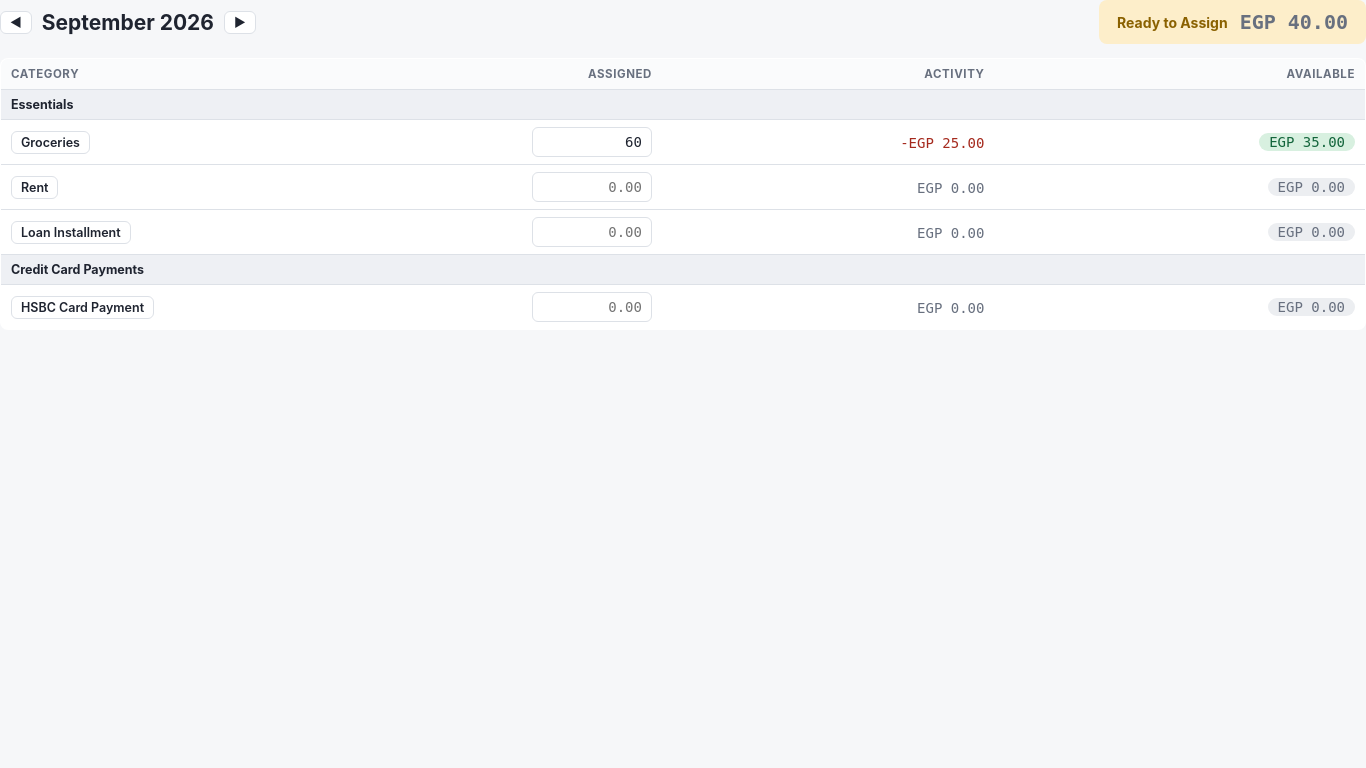
Scenario: BudgetView › sets a monthly target through the target modal and shows goal progress
This screenshot has width=1366, height=768.
Click the button with aria-label "edit target for groceries".
click(50, 142)  # box [11,130,90,154]
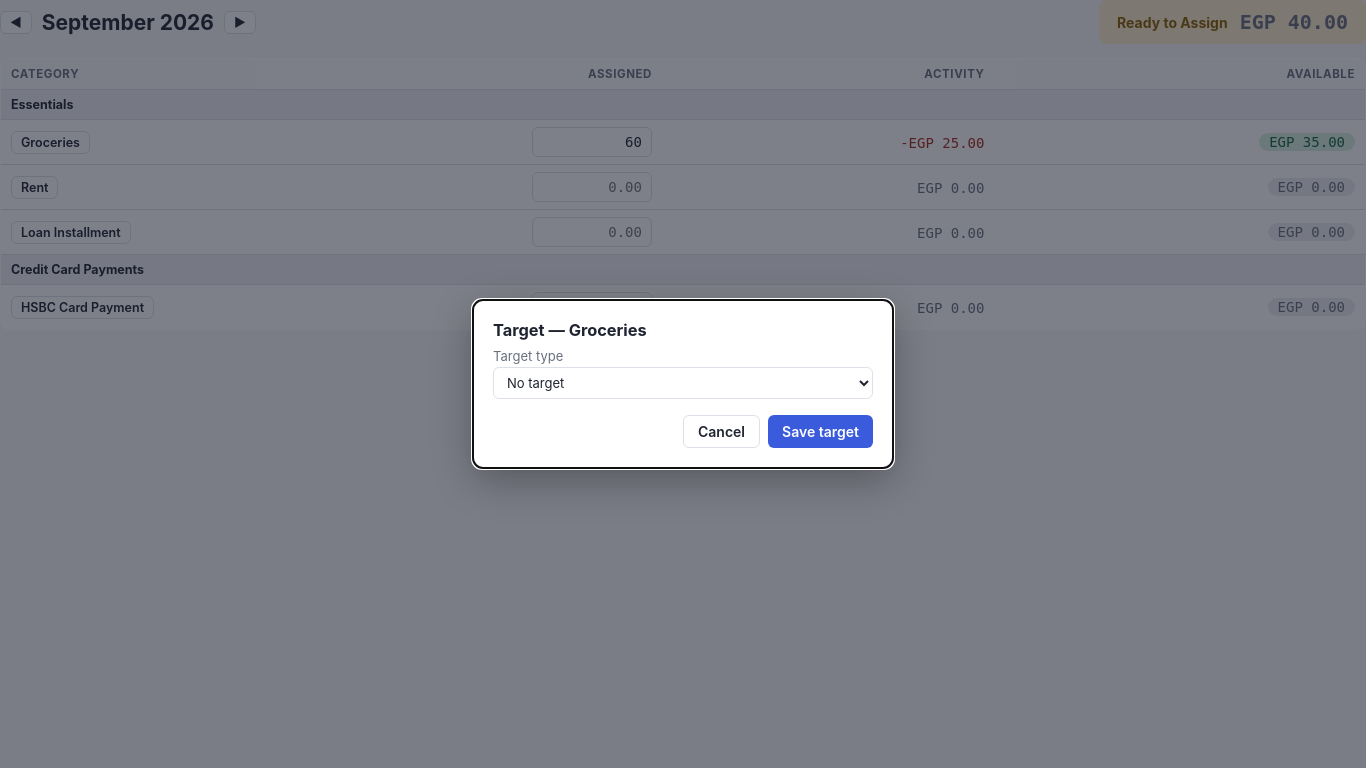
Select "Monthly funding" in the dropdown labelled "Target type" at (683, 383), box [493,367,873,399]
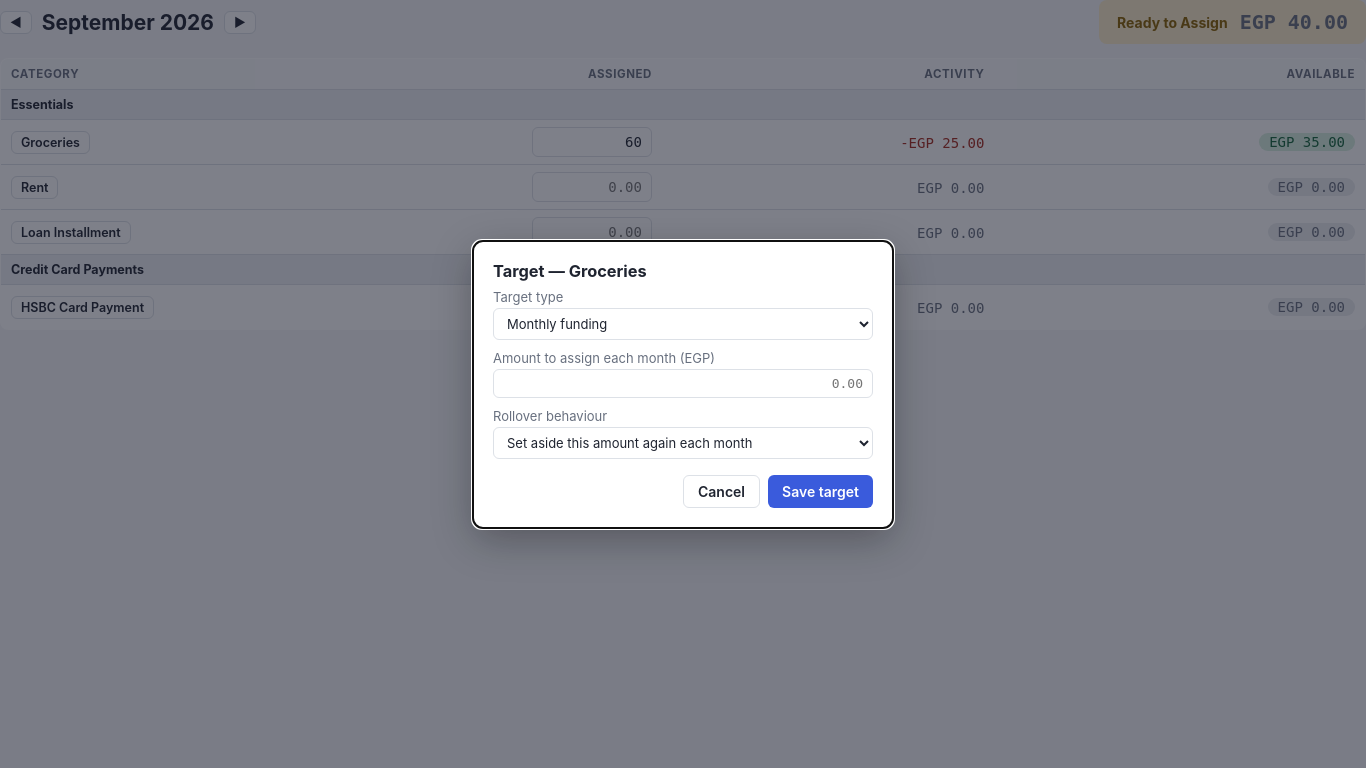
Type "100" into the field named "target amount".
click(683, 383); type("100")  # box [493,368,873,398]
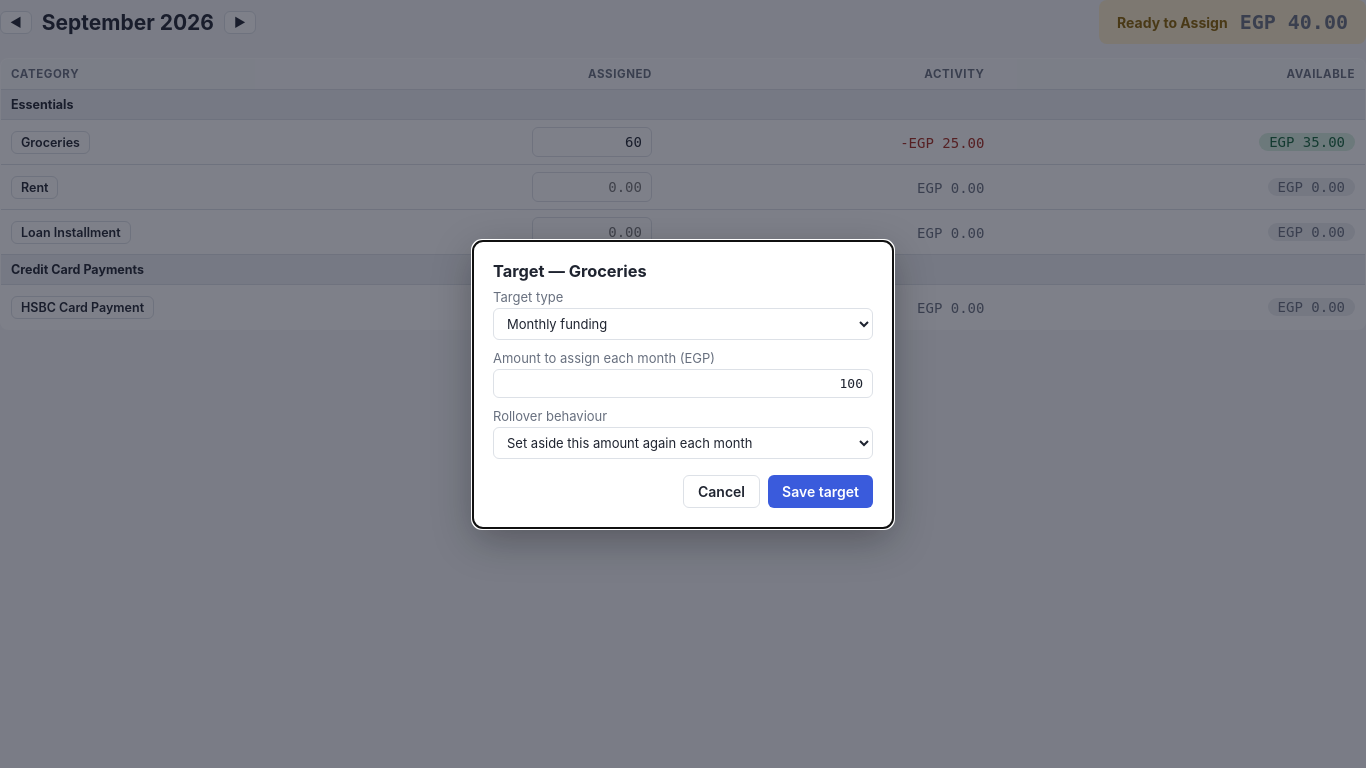
Click the button "Save target".
click(820, 491)  # box [768,474,873,508]
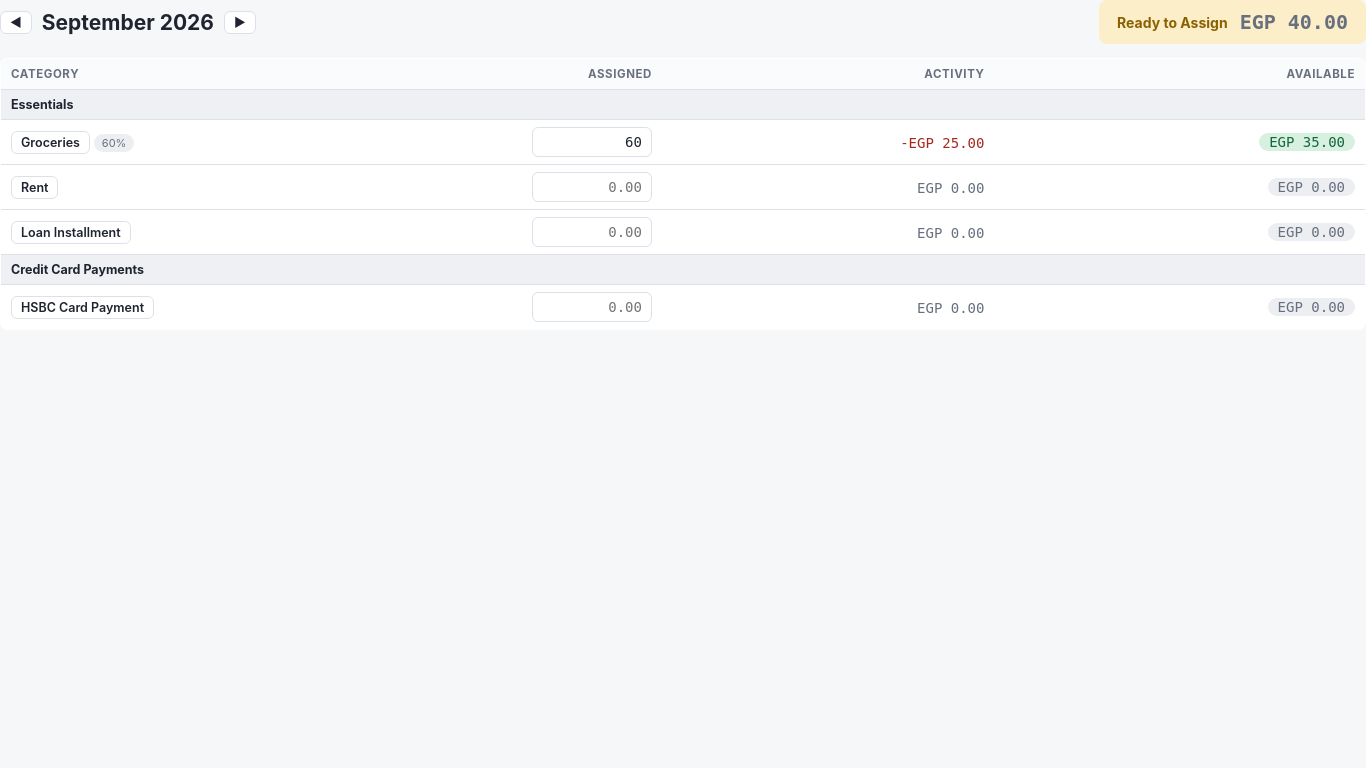
Now the message named "goal for groceries" reads "60%", box [102,136,126,150]
